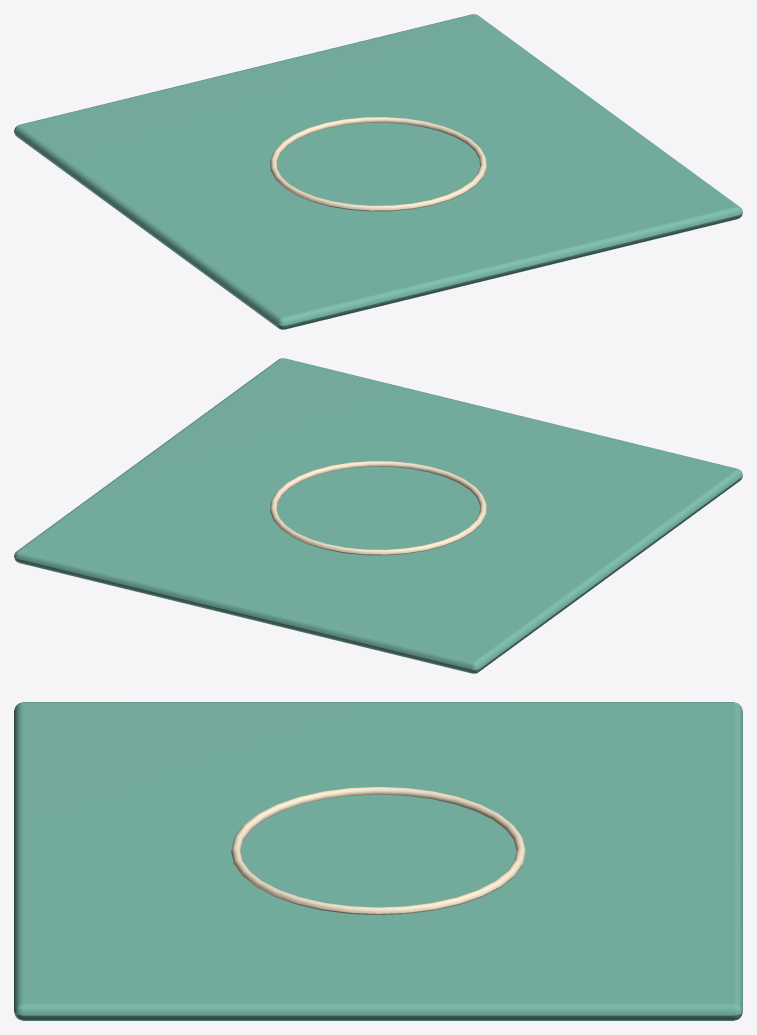
Rendered from Bowl_prep_mat.fbx.
3 views of the same model, one above another, from view 1: azimuth 30°, elevation 25°; view 2: azimuth 150°, elevation 25°; view 3: azimuth 270°, elevation 25° (orthographic). The views are drawn at different scales.
Parts seen in each view (by area): view 1: Toon_Bowl_prep_mat Prep mat.001, Toon_Bowl_prep_mat Bowl placement mark.001; view 2: Toon_Bowl_prep_mat Prep mat.001, Toon_Bowl_prep_mat Bowl placement mark.001; view 3: Toon_Bowl_prep_mat Prep mat.001, Toon_Bowl_prep_mat Bowl placement mark.001.
Boxes of the visible parts, bbox=[...] form: Toon_Bowl_prep_mat Prep mat.001: bbox=[14, 14, 742, 329]; Toon_Bowl_prep_mat Bowl placement mark.001: bbox=[270, 117, 486, 211]; Toon_Bowl_prep_mat Prep mat.001: bbox=[14, 358, 742, 673]; Toon_Bowl_prep_mat Bowl placement mark.001: bbox=[270, 461, 486, 555]; Toon_Bowl_prep_mat Prep mat.001: bbox=[14, 702, 742, 1020]; Toon_Bowl_prep_mat Bowl placement mark.001: bbox=[231, 786, 525, 914].
Size of the model in its own units: 47 by 1.6 by 47.
